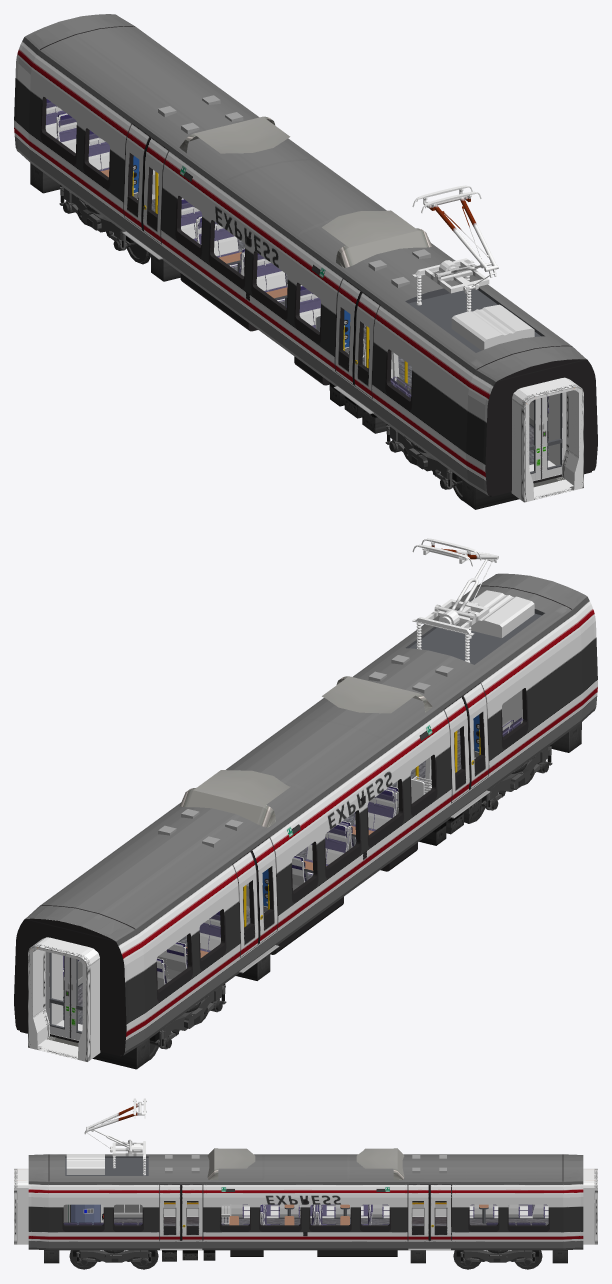
File: module_express_panto_6m.obj
The picture shows the model from 3 angles, top to bottom: view 1: azimuth 30°, elevation 25°; view 2: azimuth 150°, elevation 25°; view 3: azimuth 270°, elevation 25°; orthographic projection. The views are drawn at different scales.
Parts seen in each view (by area): view 1: m_side, m_jibung, m_aircon, m_mak, m_backout, m_habu, m_panto6m, m_dt71, m_door_RB, m_door_RF, m_foldingchair, m_oscarchair (+4 smaller); view 2: m_side, m_jibung, m_aircon, m_mak, m_backout, m_habu, m_door_RF, m_door_RB, m_panto6m, m_dt71, m_oscarchair, m_interiors (+4 smaller); view 3: m_side, m_jibung, m_aircon, m_dt71, m_mak, m_habu, m_door_LB, m_door_LF, m_floor, m_foldingchair, m_oscarchair, m_heater (+6 smaller).
Part boxes in pixels (x1=…): m_side: x1=14, y1=16, x2=597, y2=495; m_jibung: x1=25, y1=14, x2=586, y2=381; m_aircon: x1=158, y1=95, x2=534, y2=350; m_mak: x1=511, y1=377, x2=583, y2=502; m_backout: x1=489, y1=359, x2=593, y2=494; m_habu: x1=30, y1=163, x2=591, y2=509; m_panto6m: x1=412, y1=185, x2=498, y2=311; m_dt71: x1=59, y1=185, x2=462, y2=500; m_door_RB: x1=124, y1=139, x2=356, y2=397; m_door_RF: x1=142, y1=152, x2=374, y2=410; m_foldingchair: x1=45, y1=99, x2=548, y2=430; m_oscarchair: x1=181, y1=198, x2=287, y2=307; m_side: x1=14, y1=577, x2=597, y2=1055; m_jibung: x1=25, y1=573, x2=586, y2=941; m_aircon: x1=158, y1=590, x2=534, y2=847; m_mak: x1=28, y1=937, x2=100, y2=1061; m_backout: x1=18, y1=918, x2=122, y2=1054; m_habu: x1=20, y1=722, x2=581, y2=1069; m_door_RF: x1=256, y1=698, x2=488, y2=956; m_door_RB: x1=238, y1=711, x2=470, y2=969; m_panto6m: x1=412, y1=538, x2=498, y2=662; m_dt71: x1=149, y1=745, x2=552, y2=1060; m_oscarchair: x1=243, y1=788, x2=396, y2=911; m_interiors: x1=45, y1=775, x2=431, y2=1040; m_side: x1=28, y1=1154, x2=583, y2=1250; m_jibung: x1=28, y1=1154, x2=583, y2=1181; m_aircon: x1=66, y1=1148, x2=446, y2=1180; m_dt71: x1=69, y1=1250, x2=542, y2=1269; m_mak: x1=14, y1=1168, x2=597, y2=1244; m_habu: x1=44, y1=1250, x2=567, y2=1263; m_door_LB: x1=181, y1=1194, x2=450, y2=1248; m_door_LF: x1=159, y1=1194, x2=429, y2=1248; m_floor: x1=114, y1=1217, x2=548, y2=1225; m_foldingchair: x1=63, y1=1204, x2=548, y2=1225; m_oscarchair: x1=261, y1=1204, x2=389, y2=1225; m_heater: x1=114, y1=1208, x2=548, y2=1218.
Bounding box in the file's own units: 2.88 × 6.06 × 20.53.
Materials: 29 (29 with a texture image).
